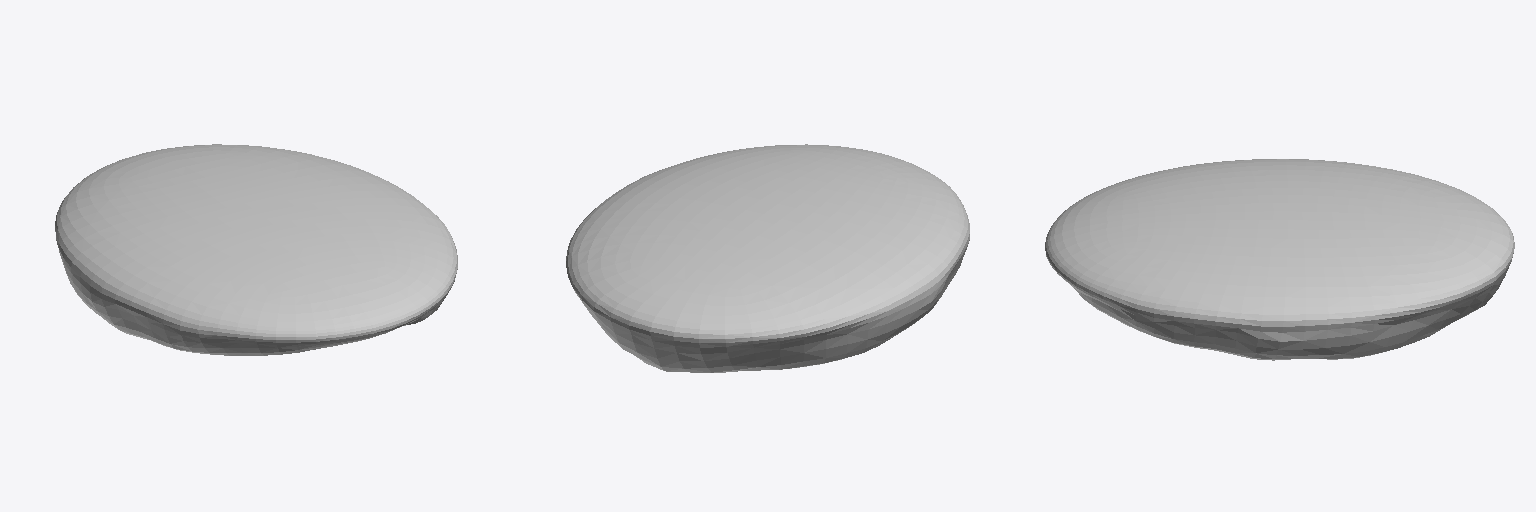
Rendered from Arena.OBJ.
3 renders of one model, left to right at view 1: azimuth 30°, elevation 25°; view 2: azimuth 150°, elevation 25°; view 3: azimuth 270°, elevation 25°, orthographic.
Parts seen in each view (by area): view 1: Group46764; view 2: Group46764; view 3: Group46764.
Boxes of the visible parts, x1=… form: Group46764: x1=55, y1=144, x2=457, y2=355; Group46764: x1=566, y1=144, x2=969, y2=372; Group46764: x1=1045, y1=159, x2=1514, y2=360.
Size of the model in its own units: 39.91 by 10.35 by 49.38.